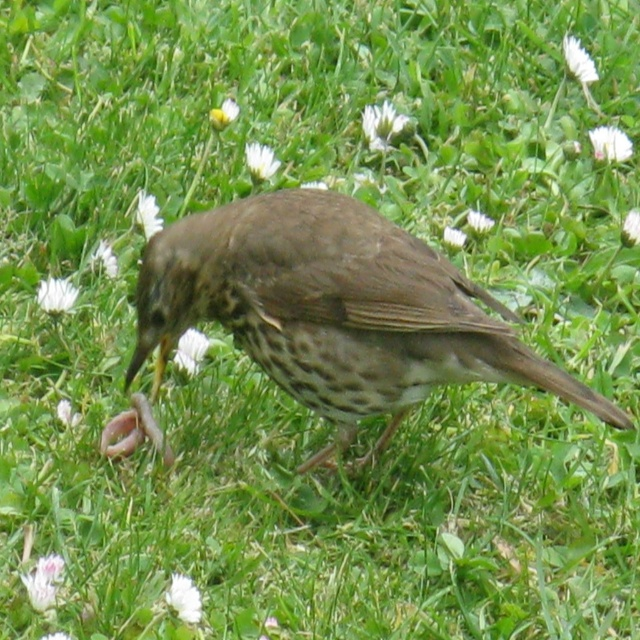Sparrow: (122, 186, 632, 472)
